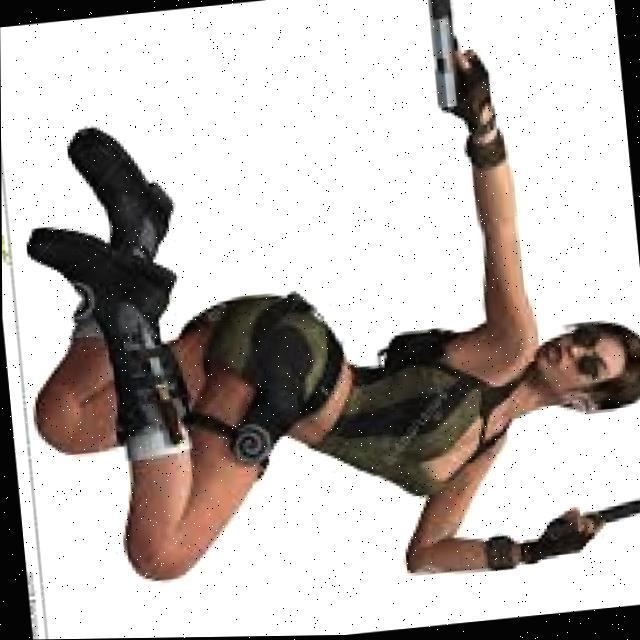pistol: (422, 0, 459, 113), (592, 495, 640, 528)
